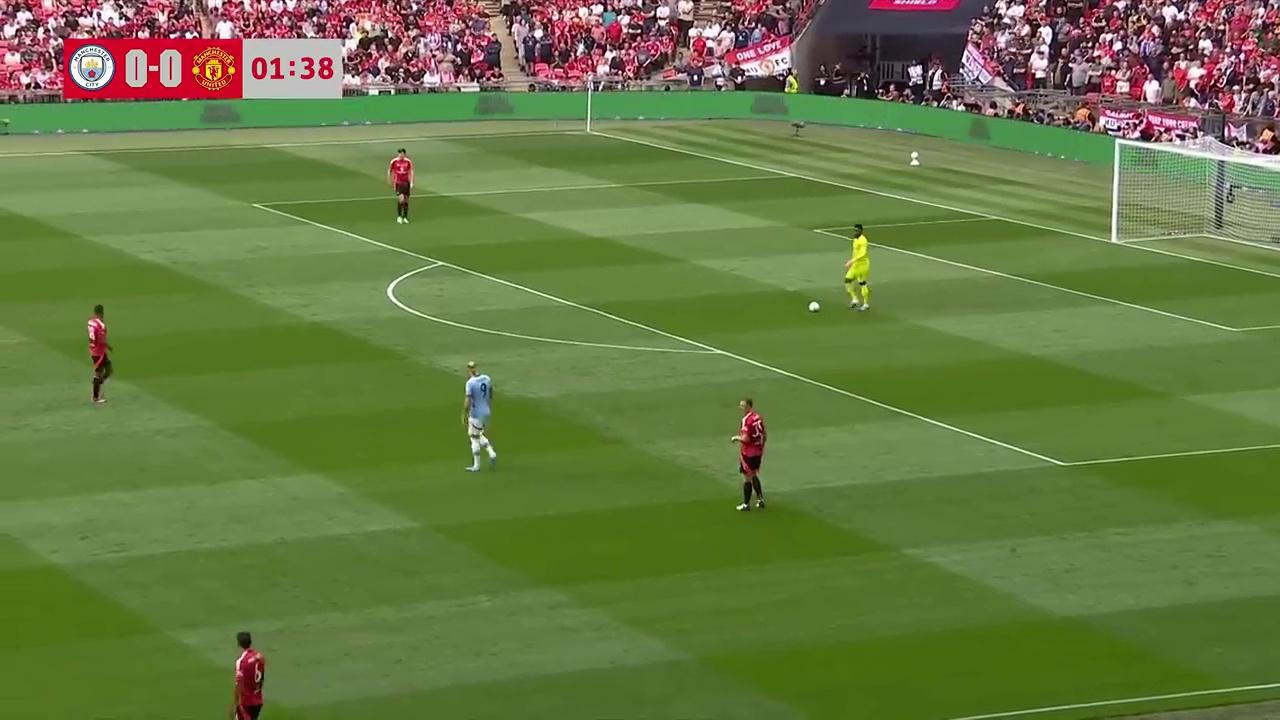ball: (806, 297, 821, 314)
player: (731, 398, 767, 512), (461, 362, 496, 472), (230, 631, 266, 720), (842, 217, 874, 312), (87, 304, 113, 404), (389, 148, 414, 224)
